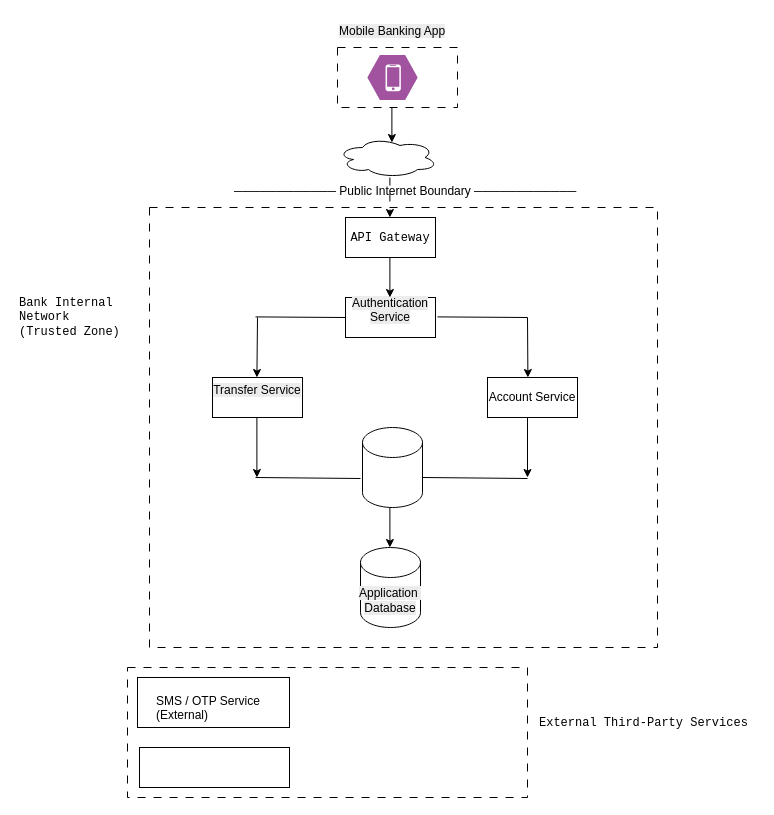
The diagram is 774 pixels wide and 815 high, and some of its shapes have lost their labels. The shapes that lost their labels are listed below. From the top down, each one's centre as x and y in pixels, then its label:
At (387,157): "Internet".
At (392,467): "Core Banking Database".
At (214,767): "Payment Gateway (Third Party)".
